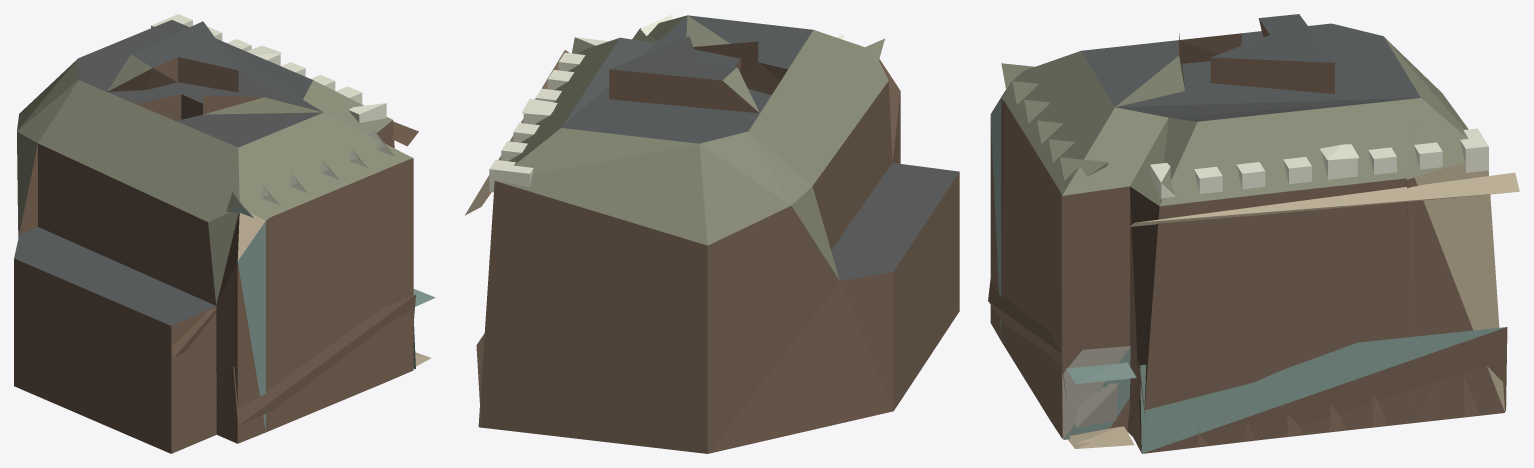
File: hotel-notting-hill.lod2.glb
3 views of the same model, side by side, from view 1: azimuth 30°, elevation 25°; view 2: azimuth 150°, elevation 25°; view 3: azimuth 270°, elevation 25° (orthographic). The views are drawn at different scales.
Parts seen in each view (by area): view 1: lod2; view 2: lod2; view 3: lod2.
Part boxes in pixels (bbox=[...]): lod2: bbox=[14, 14, 435, 453]; lod2: bbox=[465, 14, 959, 453]; lod2: bbox=[988, 14, 1519, 453].
Bounding box in the file's own units: 27.33 × 21.03 × 31.2.
